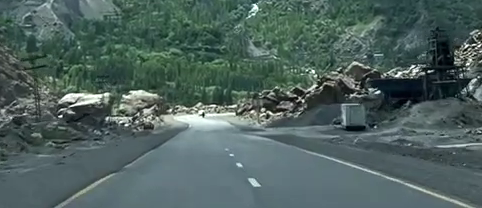left: (186, 125, 320, 208)
